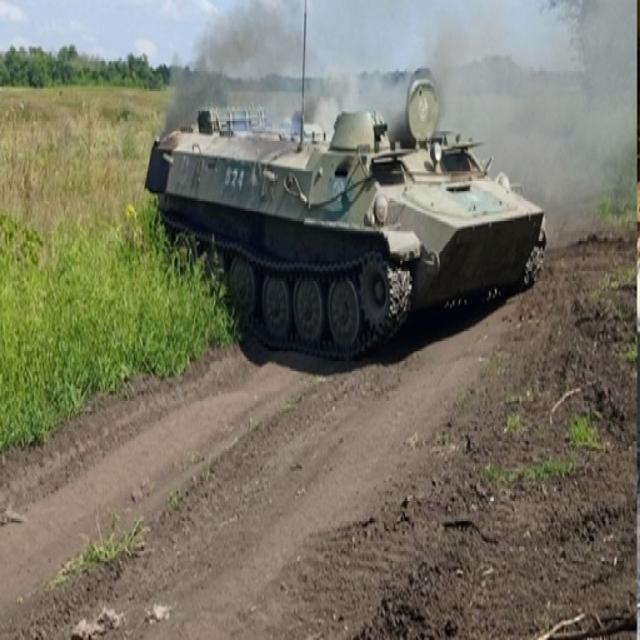APC-IFV: (136, 71, 552, 356)
